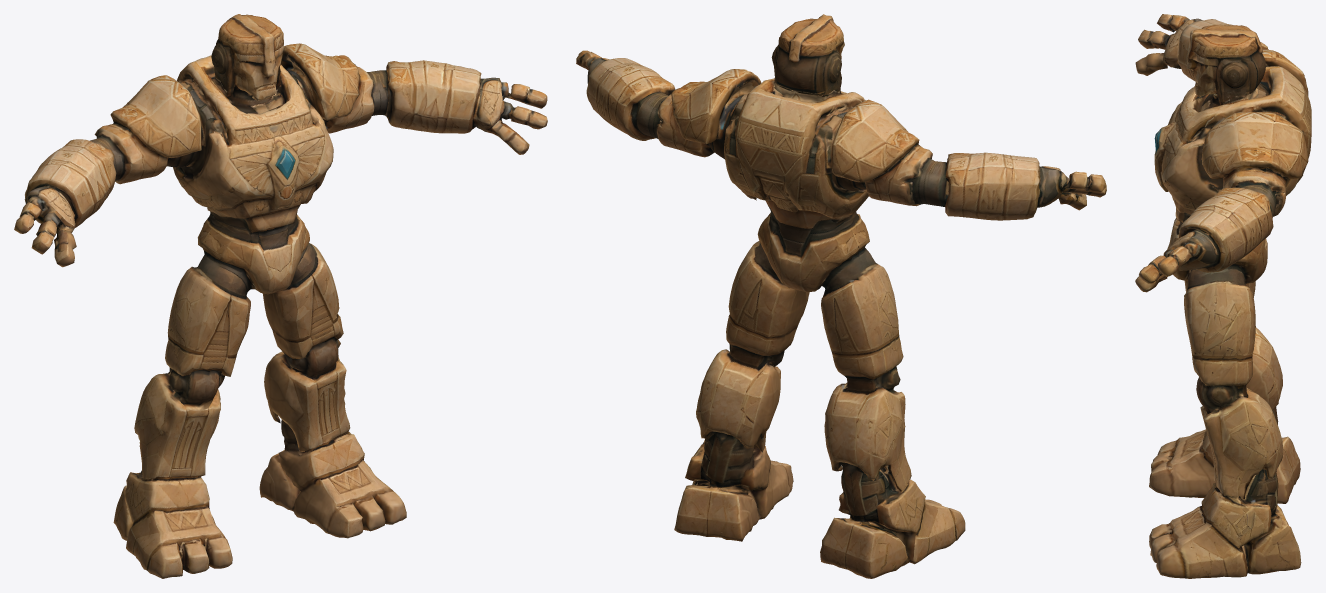
Rendered from DESERT_E05_GUARDIAN_GOLEM.glb.
The picture shows the model from 3 angles, left to right: view 1: azimuth 30°, elevation 25°; view 2: azimuth 150°, elevation 25°; view 3: azimuth 270°, elevation 25°; orthographic projection. The views are drawn at different scales.
Parts seen in each view (by area): view 1: texture_mapping; view 2: texture_mapping; view 3: texture_mapping.
Boxes of the visible parts, x1=… form: texture_mapping: x1=14, y1=14, x2=547, y2=578; texture_mapping: x1=576, y1=14, x2=1106, y2=578; texture_mapping: x1=1135, y1=14, x2=1311, y2=578.
Size of the model in its own units: 0.9937 by 0.9064 by 0.2944.
Materials: 1 (1 with a texture image).
